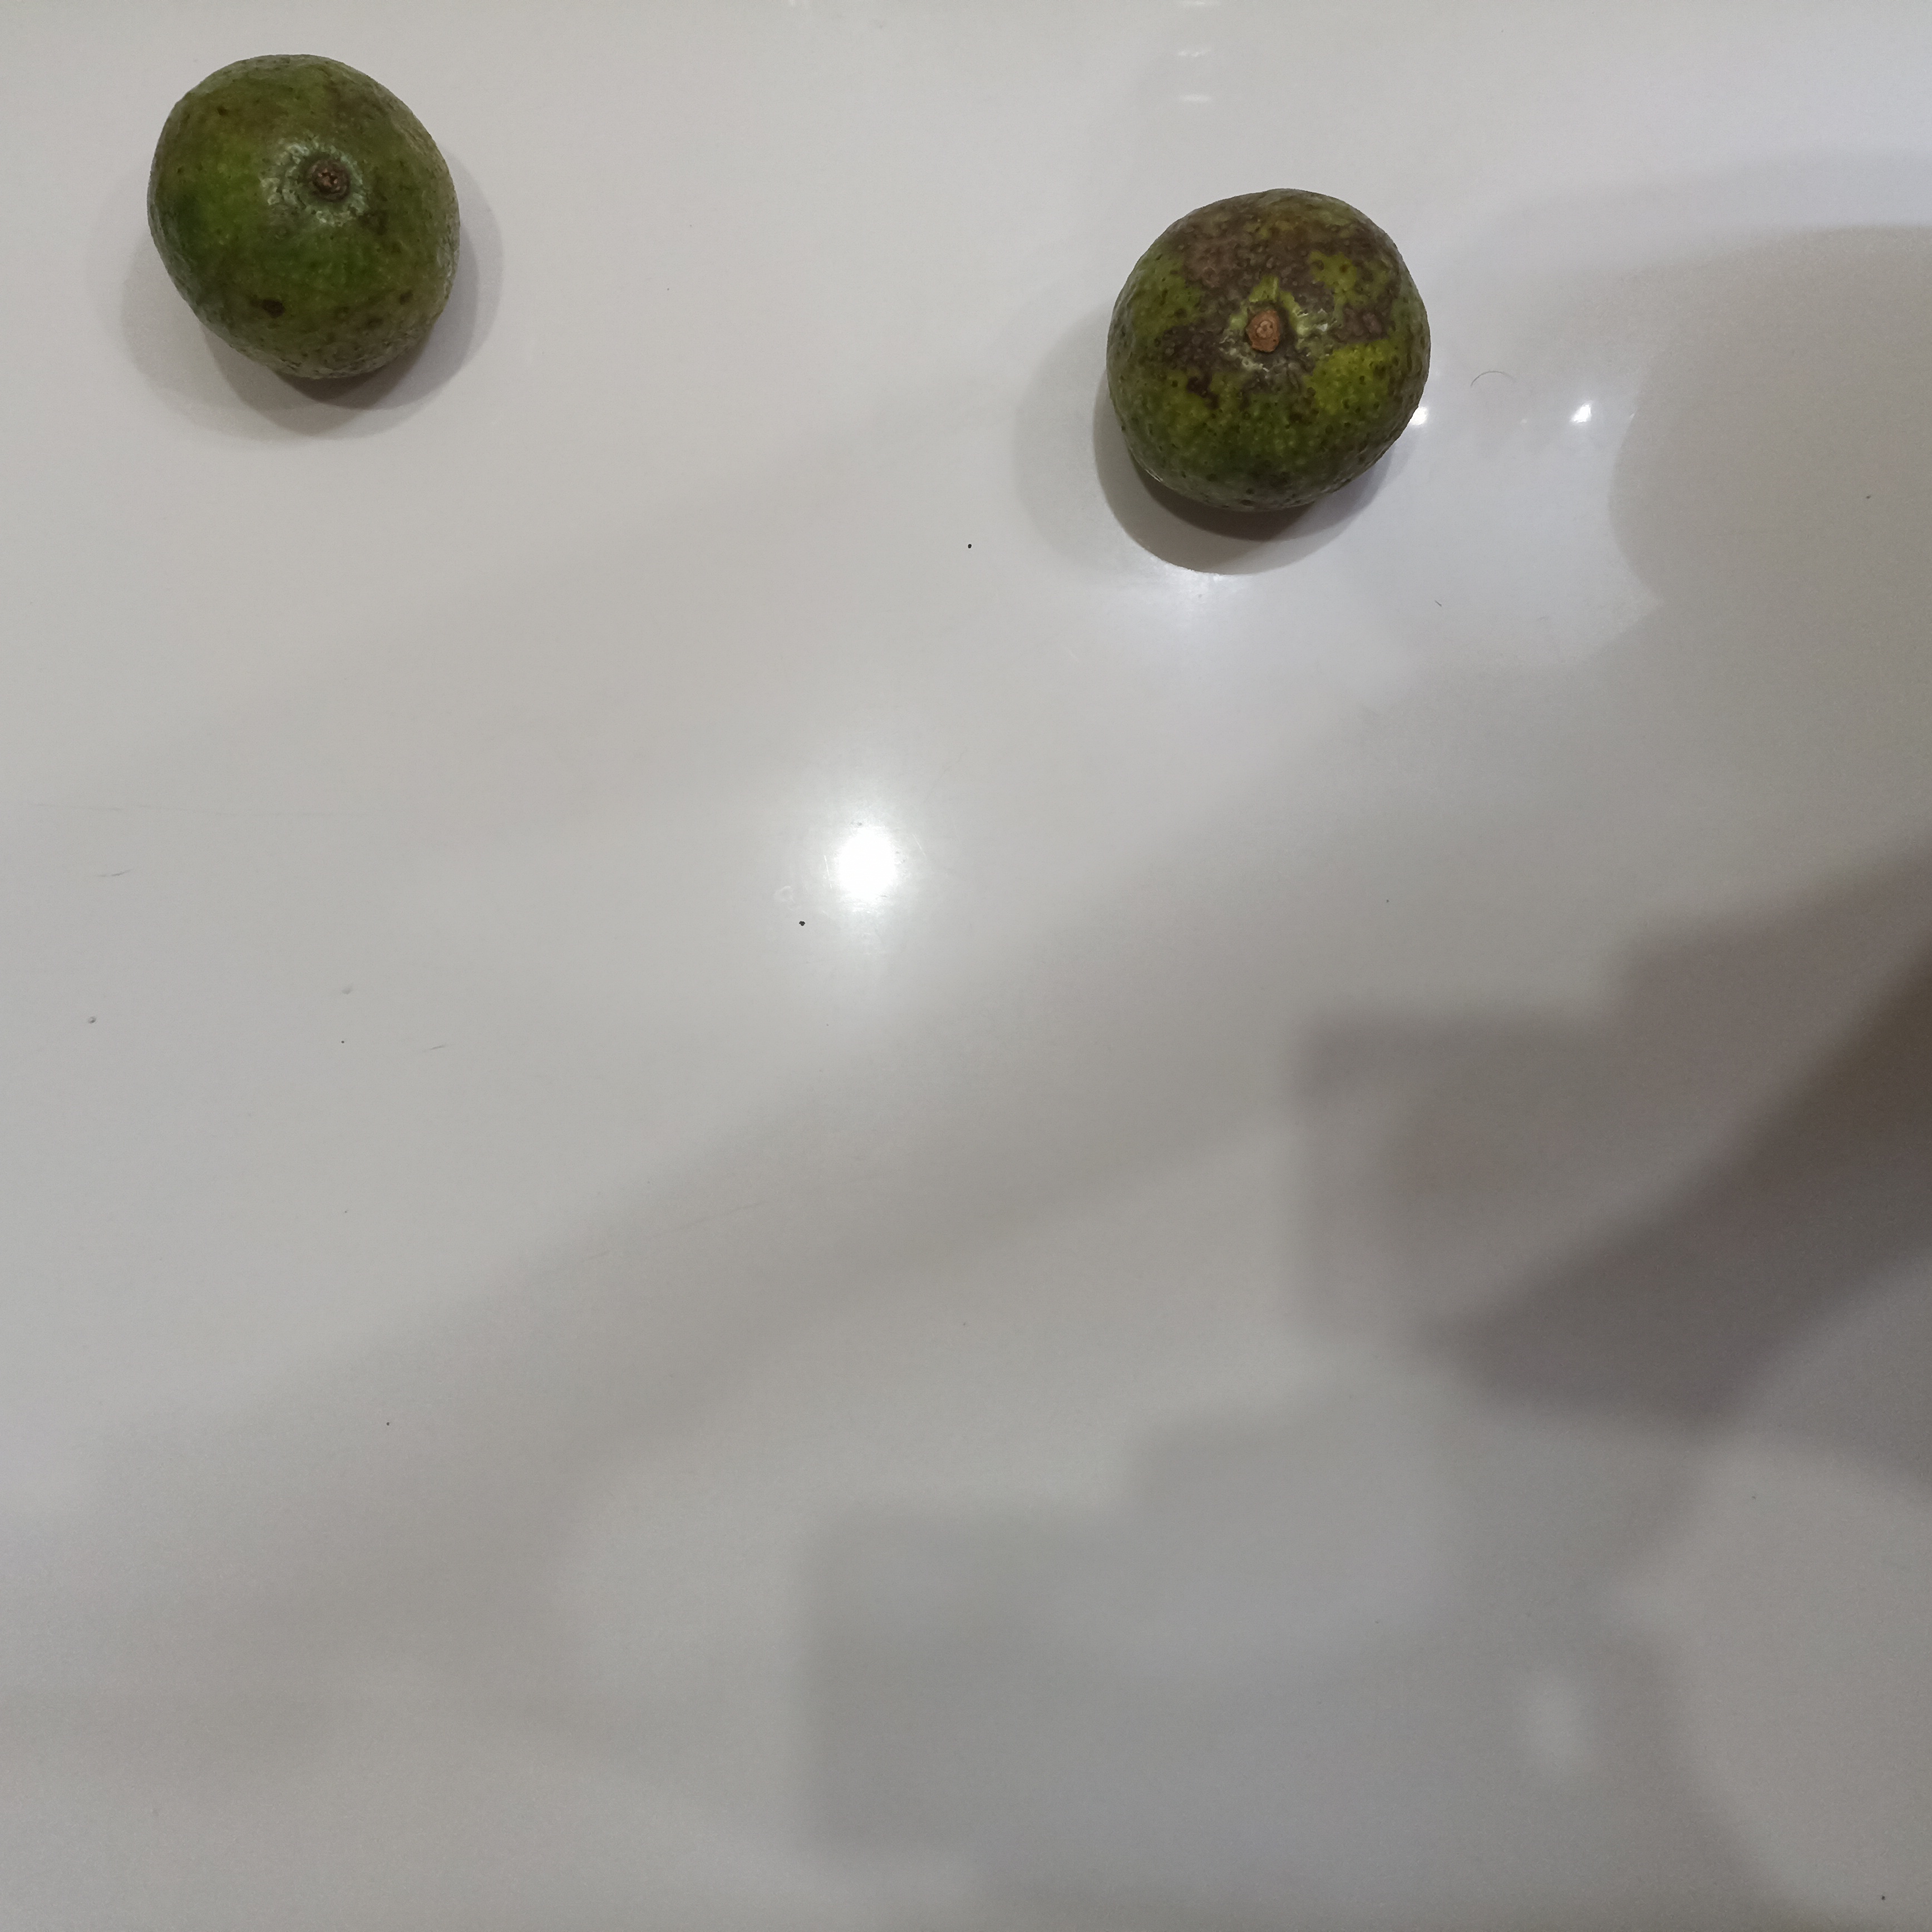Bo: (138, 51, 464, 398), (1106, 186, 1435, 525)
